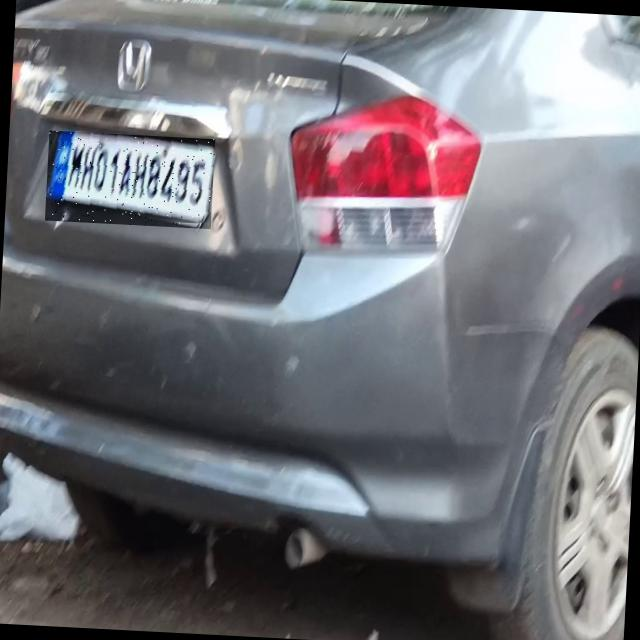Plate: (46, 132, 216, 231)
